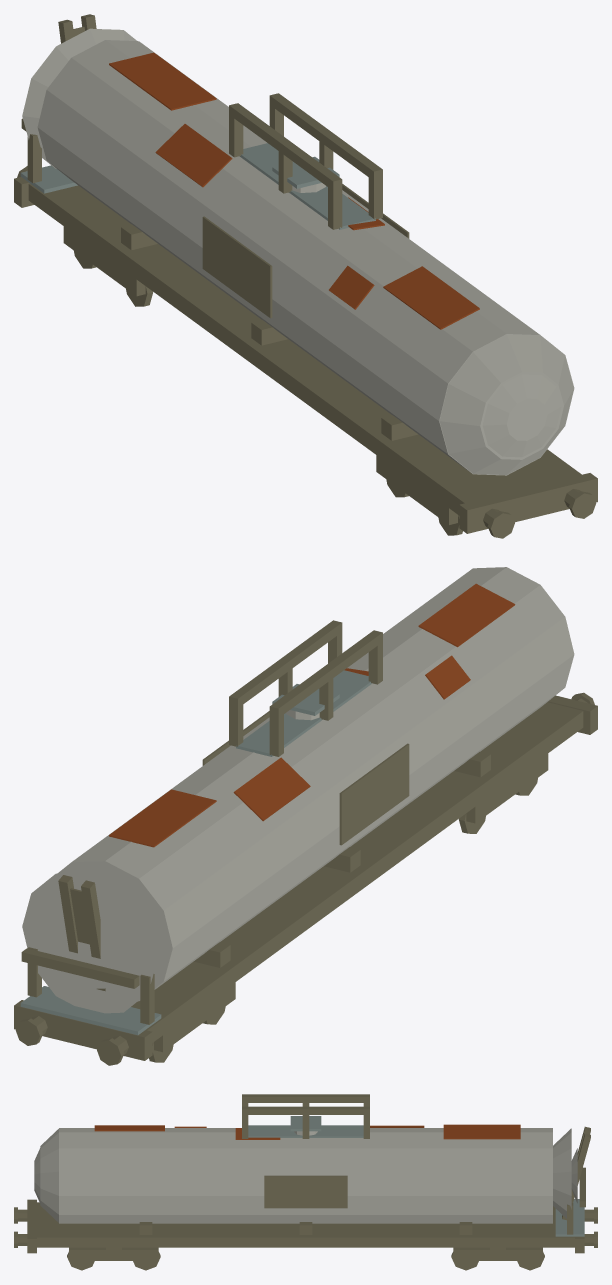
Rendered from SM_VagonCisterna_v1_Oxidada_LOD1.fbx.
The picture shows the model from 3 angles, top to bottom: view 1: azimuth 30°, elevation 25°; view 2: azimuth 150°, elevation 25°; view 3: azimuth 270°, elevation 25°; orthographic projection. The views are drawn at different scales.
Parts seen in each view (by area): view 1: SM_bloques.vagon_cisterna_v1_LOD1; view 2: SM_bloques.vagon_cisterna_v1_LOD1; view 3: SM_bloques.vagon_cisterna_v1_LOD1.
Part boxes in pixels (x1,y1,x2,y2): SM_bloques.vagon_cisterna_v1_LOD1: (14,14,597,538); SM_bloques.vagon_cisterna_v1_LOD1: (14,567,597,1065); SM_bloques.vagon_cisterna_v1_LOD1: (14,1094,597,1270).
Size of the model in its own units: 3.08 by 5.4 by 18.24.
